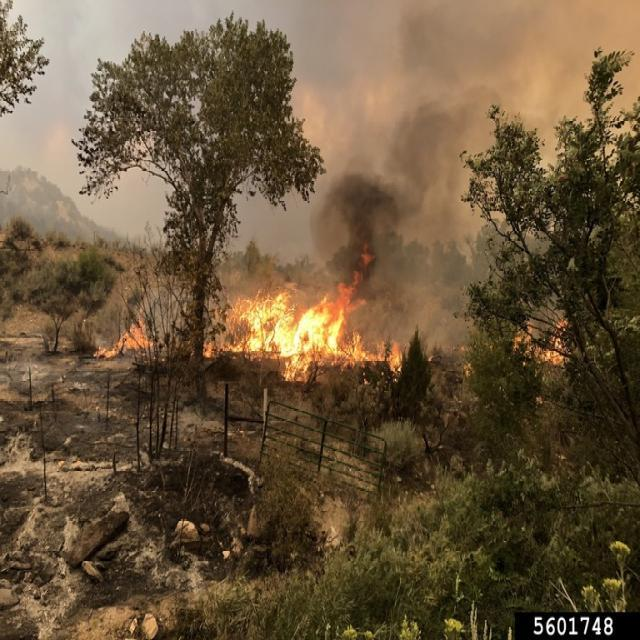Fire: (204, 270, 403, 386)
